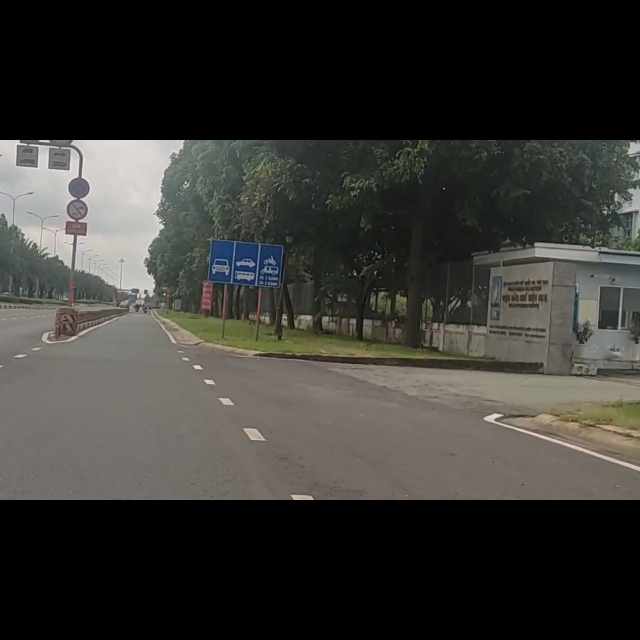bien_chi_dan: (207, 175, 283, 263), (68, 65, 91, 103), (65, 103, 88, 140)
